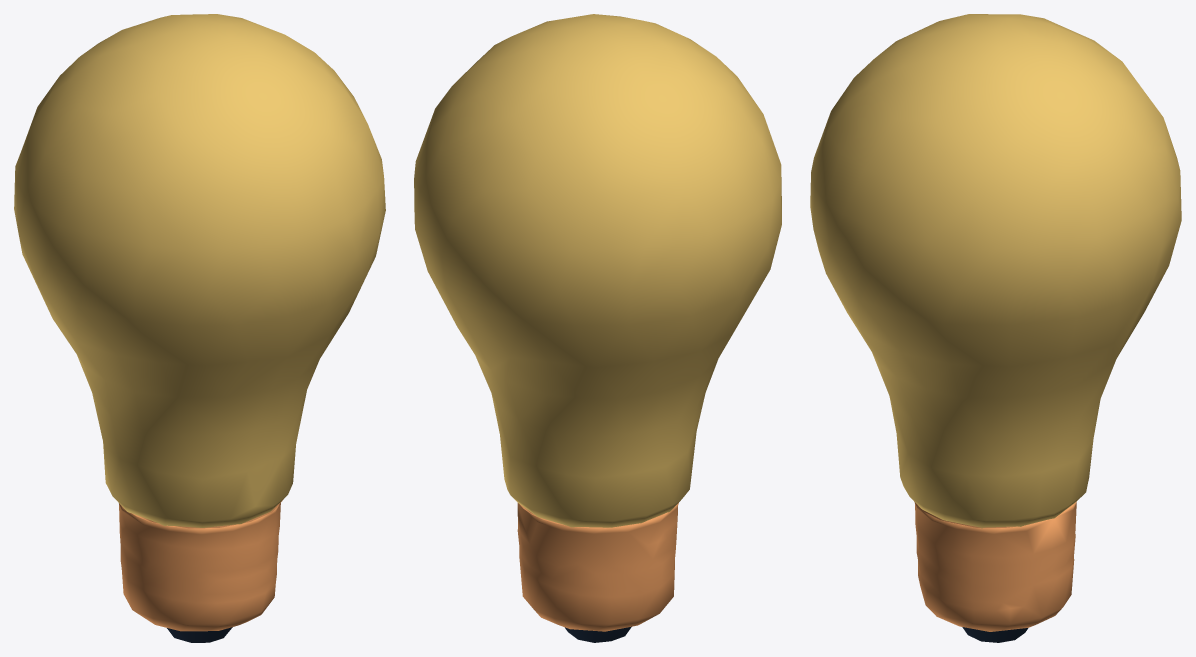
Rendered from ampoule.gltf.
3 views of the same model, side by side, from view 1: azimuth 30°, elevation 25°; view 2: azimuth 150°, elevation 25°; view 3: azimuth 270°, elevation 25° (orthographic).
Visible parts, largest first — view 1: Sphere.011; view 2: Sphere.011; view 3: Sphere.011.
Boxes of the visible parts, box(x1,y1,x2,y2) form: Sphere.011: box(14, 14, 385, 642); Sphere.011: box(414, 14, 781, 642); Sphere.011: box(810, 14, 1181, 642).
Size of the model in its own units: 1.33 by 2.4 by 1.33.
